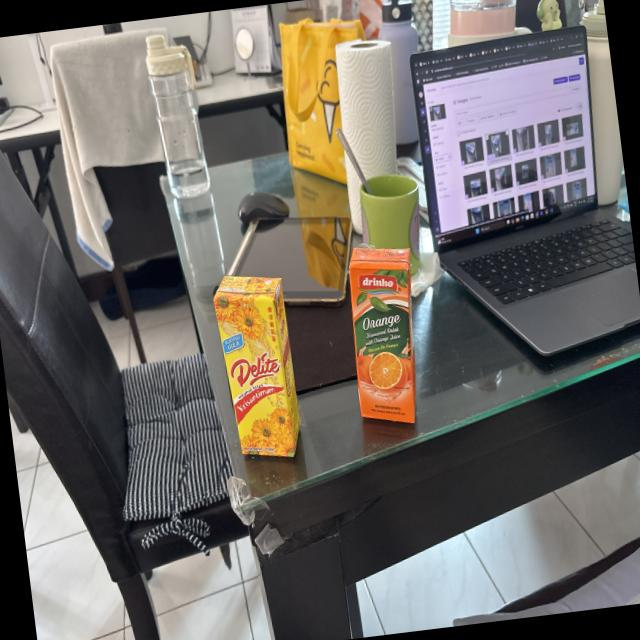drink_carton: (205, 260, 310, 472), (334, 231, 436, 444)
